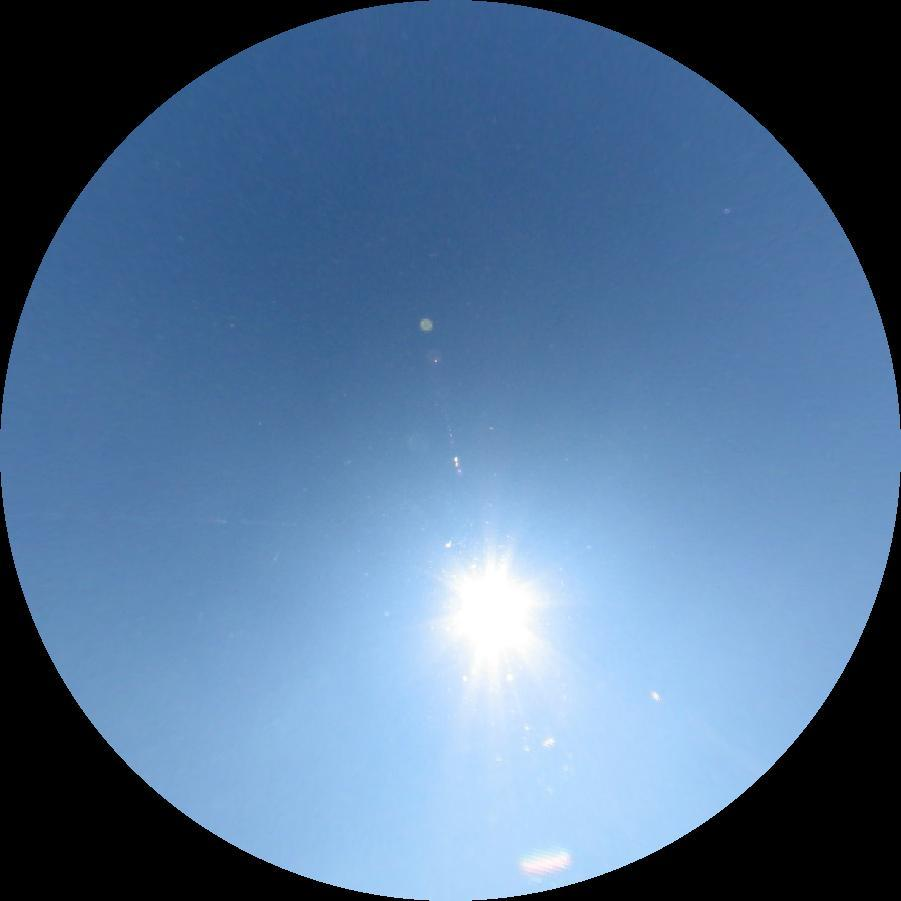sun: (423, 544, 561, 686)
